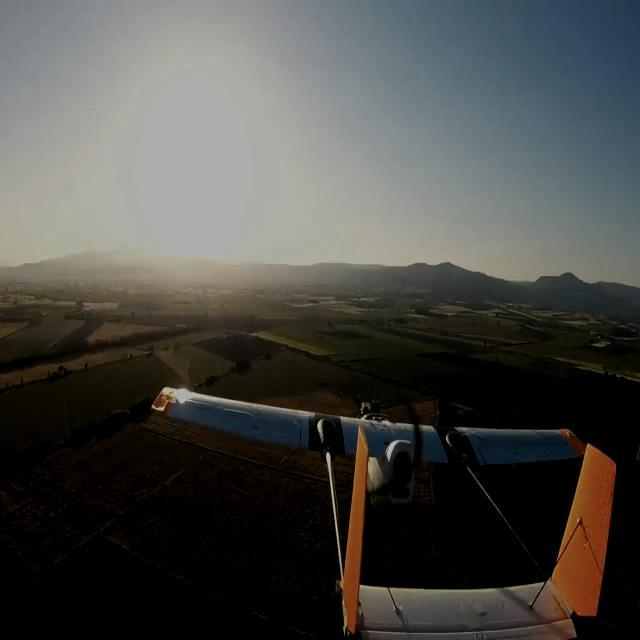iha: (134, 380, 626, 637)
